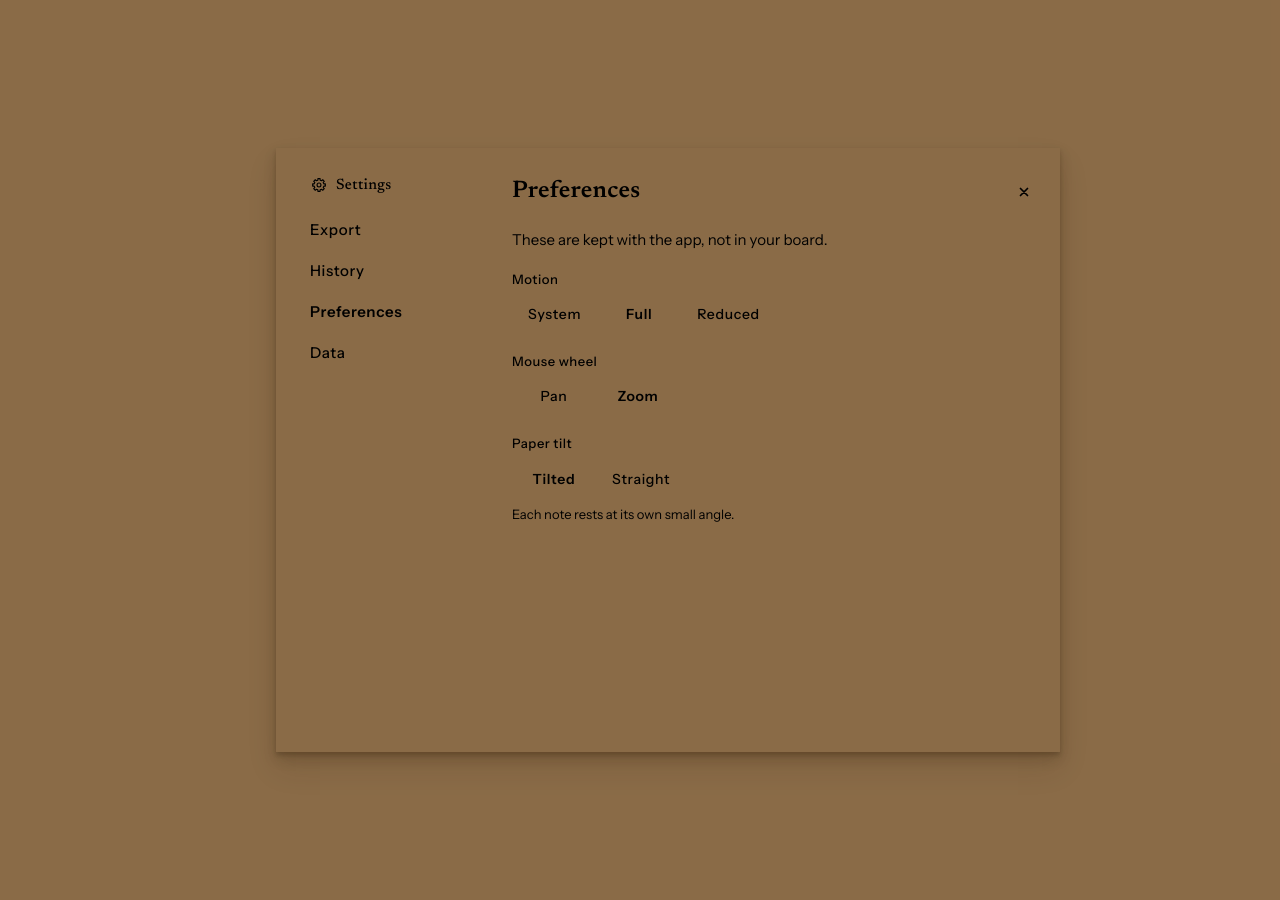
Test: Settings preferences › preferences change prefsStore and the runtime applies them without reload
Earlier steps of the test are not shown.
Check: the element "Paper tilt" is shown, box [512,435,734,522]
Check: the radio button labelled "Tilted" is checked, box [533,470,576,488]
Click the radio button labelled "Straight". click: {"x": 641, "y": 479}
box: [612,470,670,488]
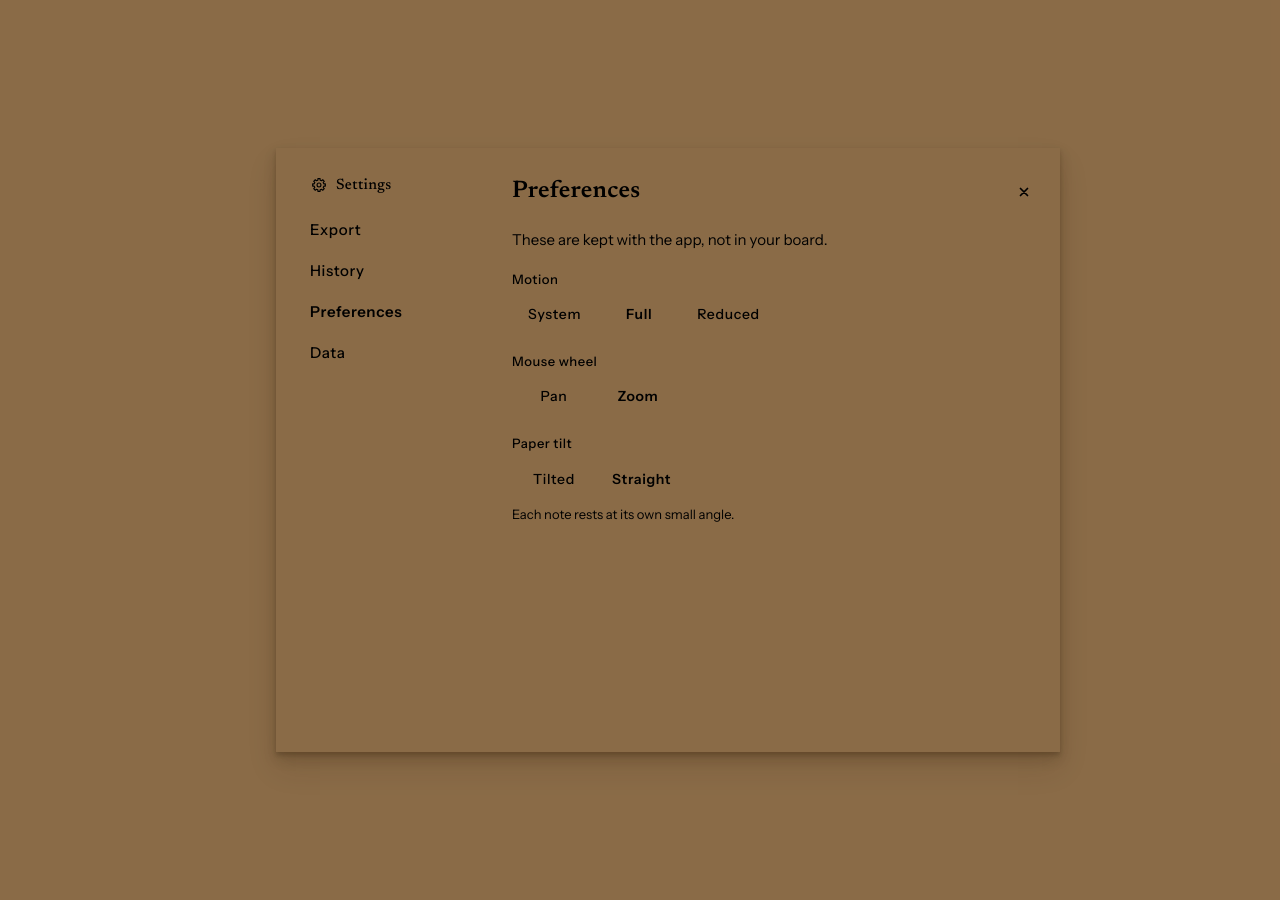
Check: the radio button labelled "Straight" is checked, box [612,470,671,488]
